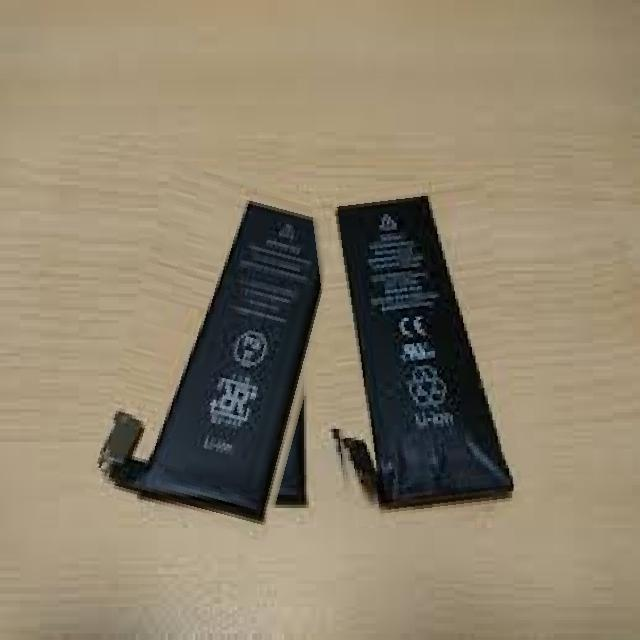Battery: (99, 138, 316, 537), (328, 165, 523, 521)
